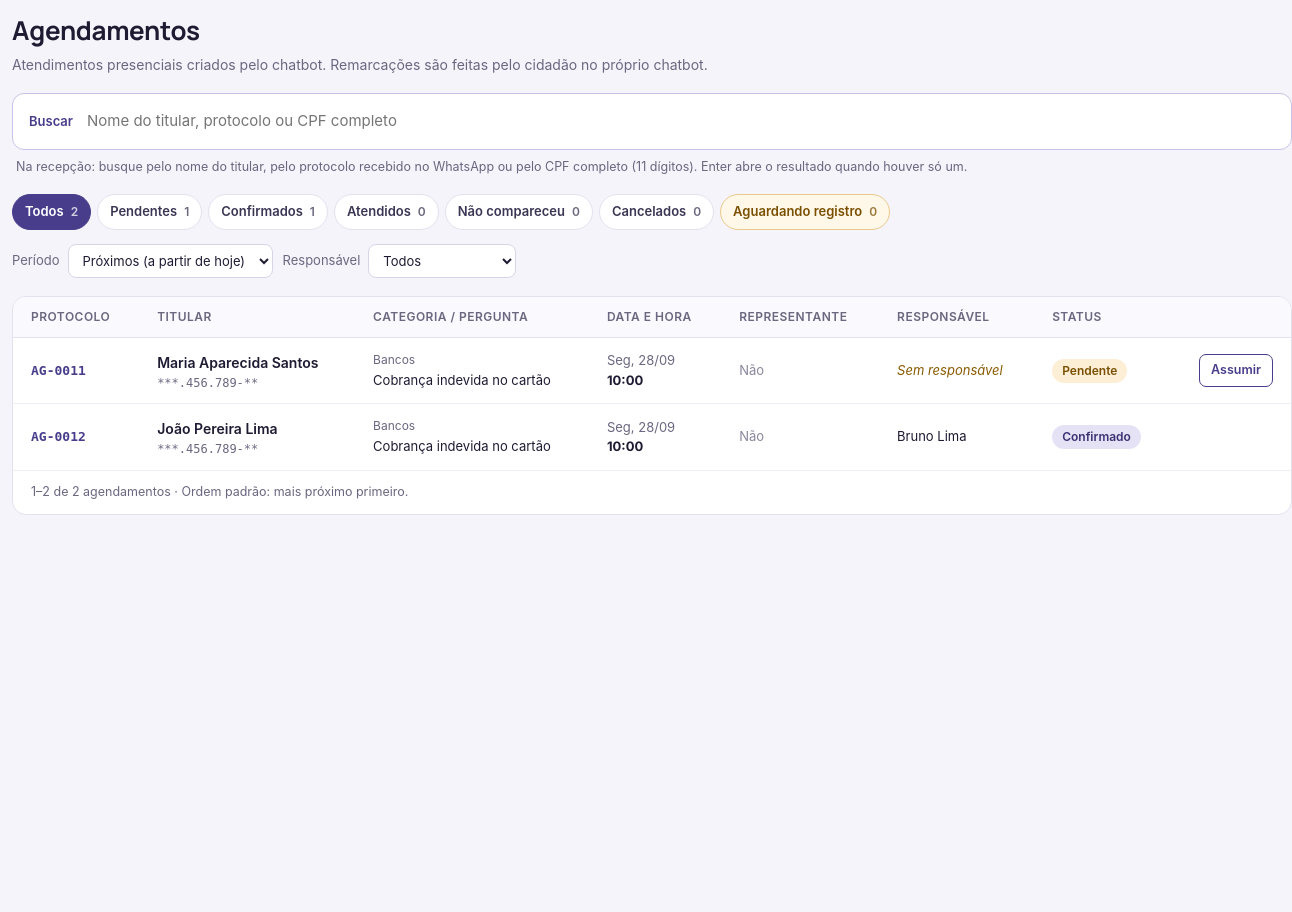
Test: Appointments.page: Assumir › com 403 INVALID_ORIGIN avisa a origem não autorizada
Check: the text "Maria Aparecida Santos" is shown, box [157, 352, 337, 372]
Click the button "Assumir".
click(1236, 370)  # box [1199, 354, 1273, 387]
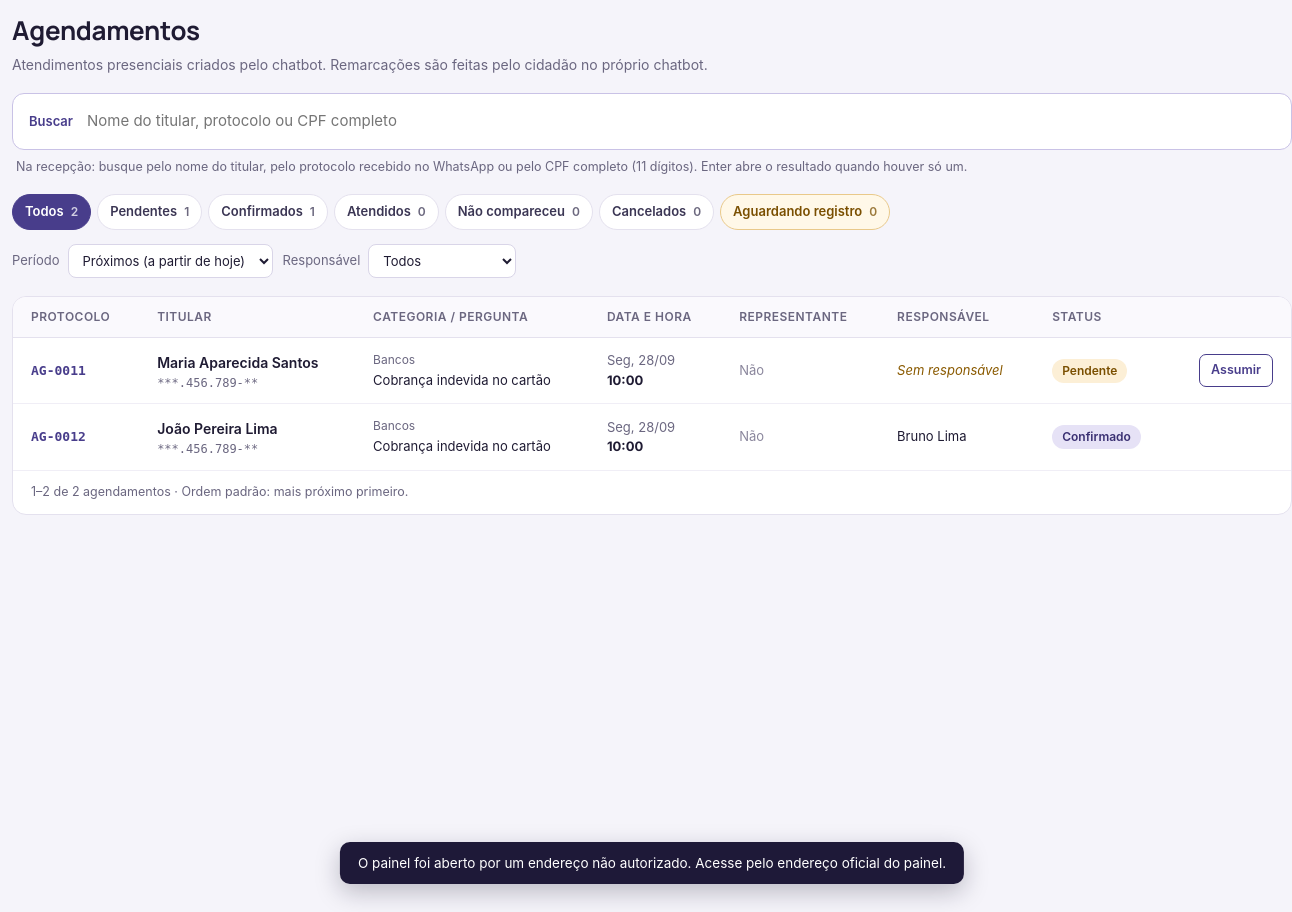
Check: the text "O painel foi aberto por um endereço não autorizado. Acesse pelo endereço oficial do painel." is shown, box [358, 855, 946, 871]
